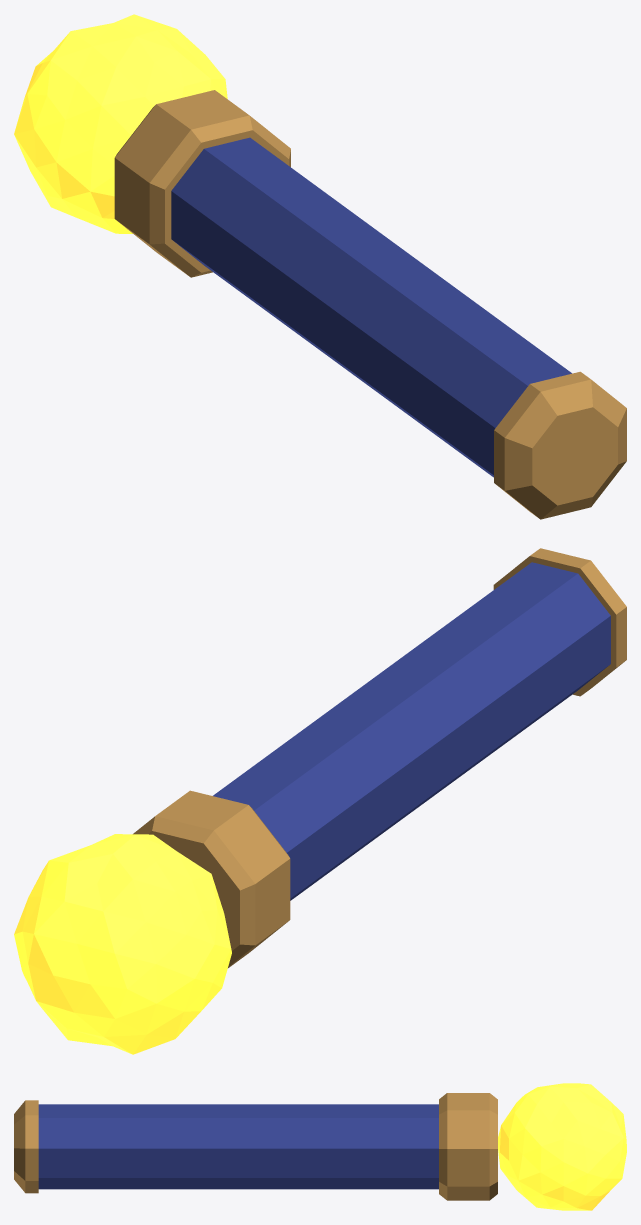
The model's file is firefly_dart.glb.
3 views of the same model, one above another, from view 1: azimuth 30°, elevation 25°; view 2: azimuth 150°, elevation 25°; view 3: azimuth 270°, elevation 25° (orthographic). The views are drawn at different scales.
Parts seen in each view (by area): view 1: DartShaft, DartBall, DartTailCap, DartCollar; view 2: DartShaft, DartBall, DartCollar, DartTailCap; view 3: DartShaft, DartBall, DartCollar, DartTailCap.
Boxes of the visible parts, x1,y1,x2,y2 form: DartShaft: (171, 137, 571, 477); DartBall: (14, 14, 227, 233); DartTailCap: (494, 371, 626, 519); DartCollar: (114, 90, 290, 277); DartShaft: (213, 562, 610, 900); DartBall: (14, 834, 231, 1054); DartCollar: (133, 790, 290, 967); DartTailCap: (493, 548, 626, 696); DartShaft: (38, 1104, 438, 1189); DartBall: (498, 1083, 626, 1210); DartCollar: (439, 1093, 497, 1200); DartTailCap: (14, 1100, 38, 1193).
Bounding box in the file's own units: 0.1579 × 0.1604 × 0.75.
